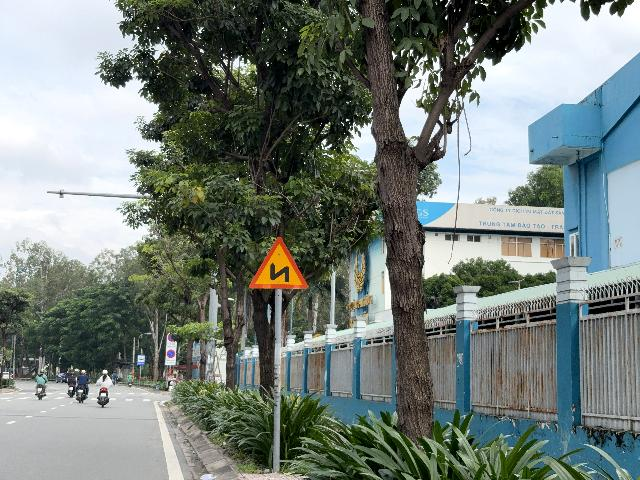nhieu-cho-ngoat-nguy-hiem-lien-tiep: (248, 237, 308, 289)
